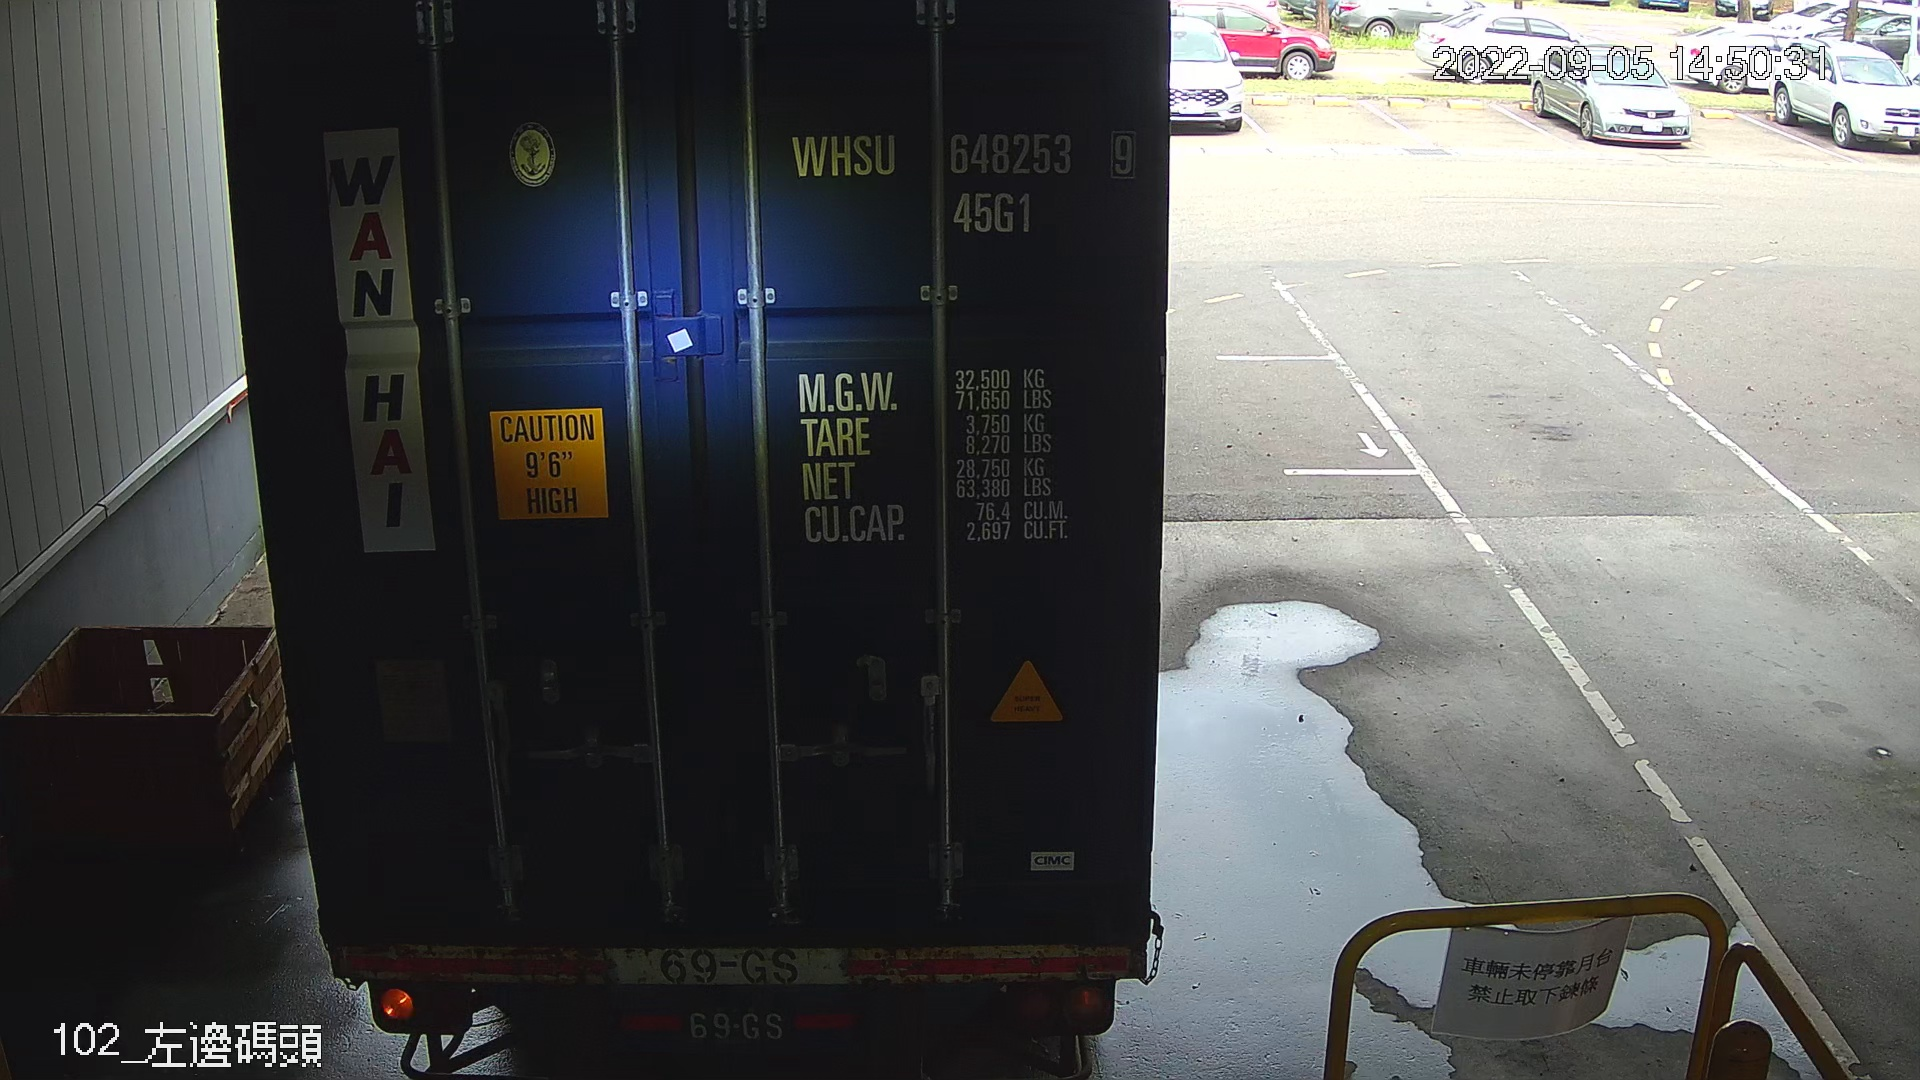container: (779, 109, 1149, 244)
